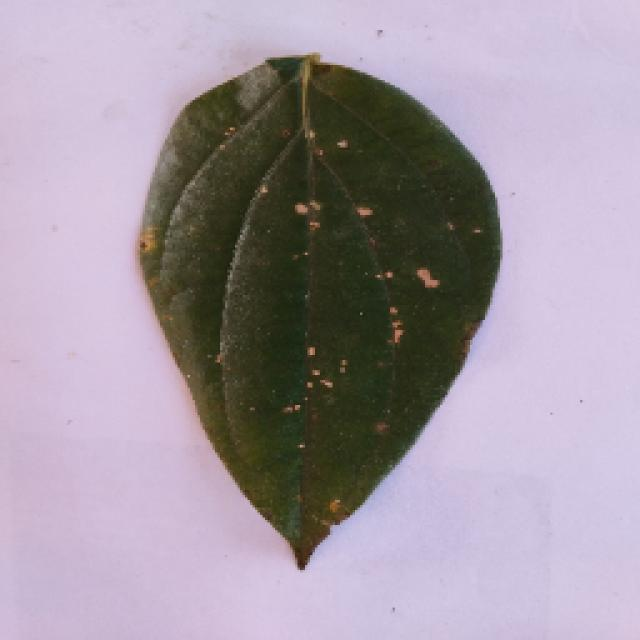pollu-disease: (108, 50, 522, 565)
